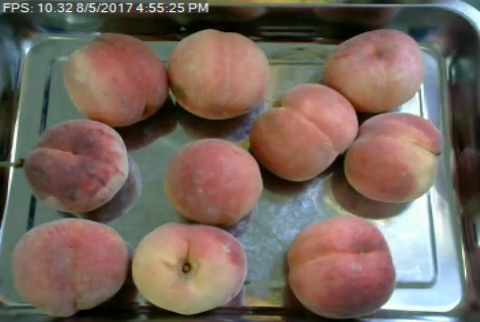Peach: (10, 216, 128, 316), (285, 215, 397, 318), (250, 82, 358, 181), (134, 221, 246, 316), (23, 118, 130, 214), (63, 32, 168, 126), (169, 30, 274, 120), (320, 25, 423, 115), (340, 113, 442, 203), (164, 138, 263, 225)
